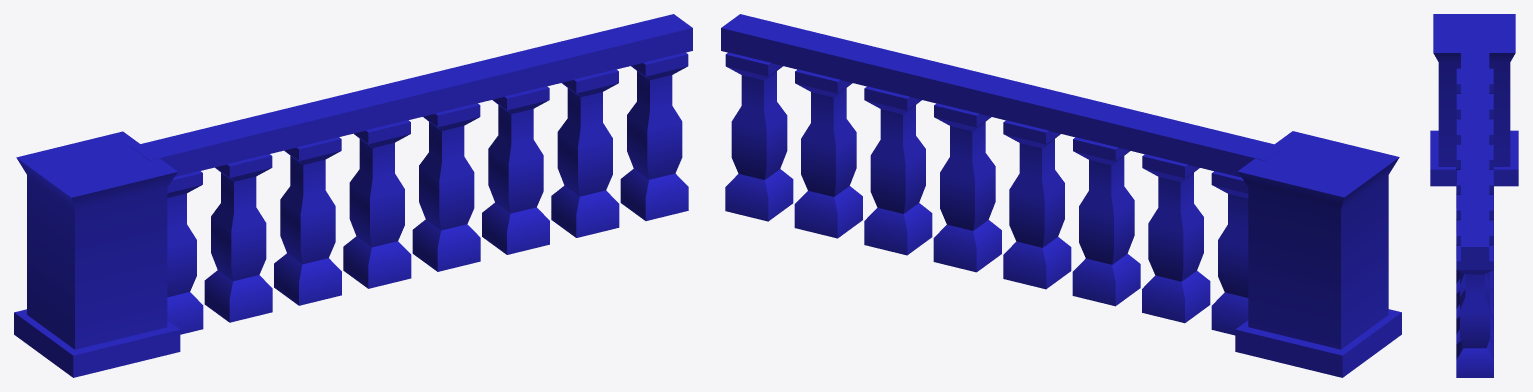
Rendered from palace_roof_top_fence_B.fbx.
3 renders of one model, left to right at view 1: azimuth 30°, elevation 25°; view 2: azimuth 150°, elevation 25°; view 3: azimuth 270°, elevation 25°, orthographic. The views are drawn at different scales.
Visible parts, largest first — view 1: Fence_B; view 2: Fence_B; view 3: Fence_B.
Part boxes in pixels (bbox=[...]): Fence_B: bbox=[14, 14, 692, 377]; Fence_B: bbox=[721, 14, 1401, 377]; Fence_B: bbox=[1430, 14, 1518, 377].
Bounding box in the file's own units: 187 × 50 × 30.
